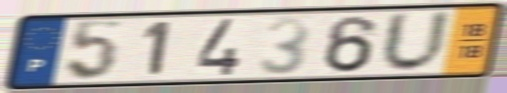1: (141, 19, 172, 78)
3: (258, 14, 315, 77)
4: (195, 16, 242, 77)
5: (66, 18, 125, 83)
6: (323, 14, 380, 74)
U: (378, 8, 455, 76)
